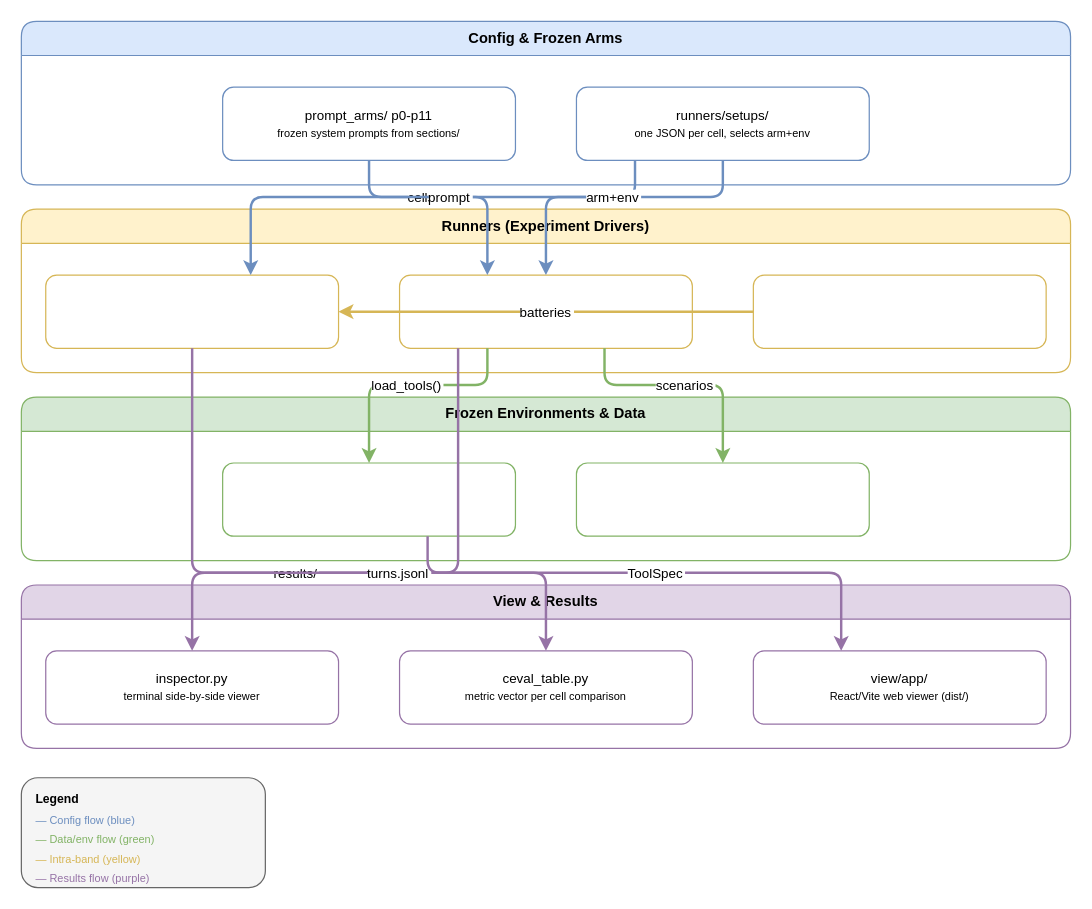
Image size: 1092x909. Some labels were removed from this diagram. The shapes that lost their labels are listed below. From the top down, each one's centre as x and y in pixels, then its label:
At [192,311]: "sweep.py eval-params x cells matrix driver".
At [545,311]: "run_ceval.py boot realtime, invoke ceval, teardown".
At [899,311]: "eval_params.py named evaluations + ceval flags".
At [368,499]: "environments/ e0-e15 frozen tool snapshots (ToolSpec)".
At [722,499]: "datasets/ prompts + generated scenarios".
